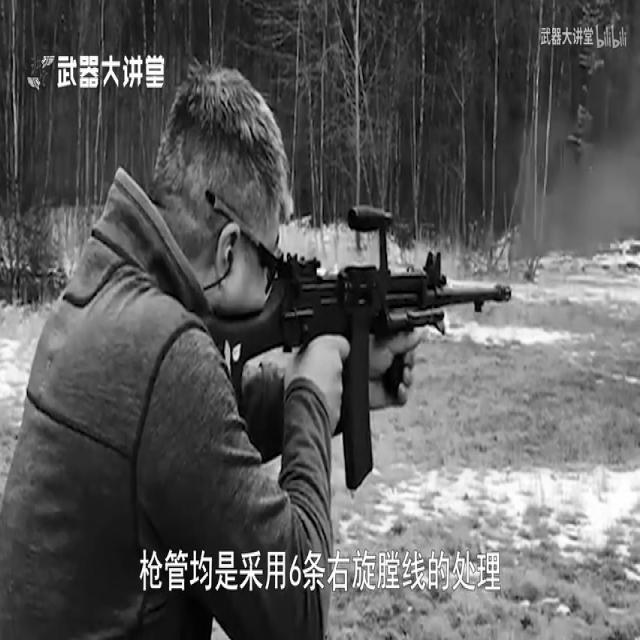Rifle: (212, 198, 517, 508)
